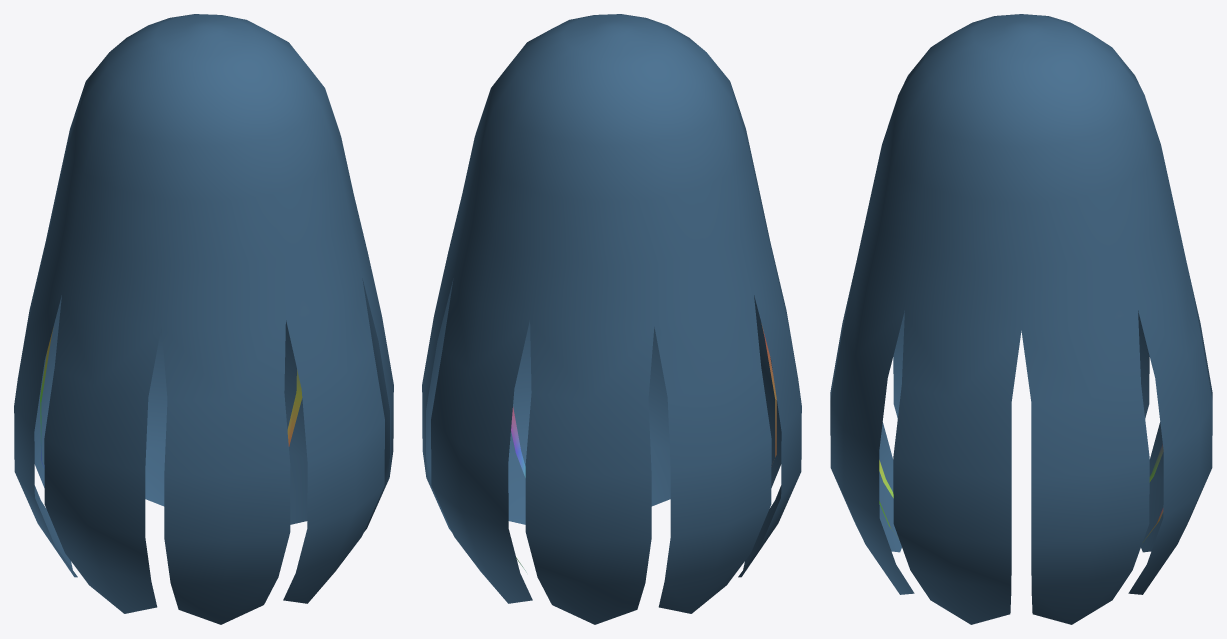
Rendered from underwater-sea-invertebrates-blue-jellyfish_v1.fbx.
3 renders of one model, left to right at view 1: azimuth 30°, elevation 25°; view 2: azimuth 150°, elevation 25°; view 3: azimuth 270°, elevation 25°, orthographic.
Visible parts, largest first — view 1: Blue Jellyfish; view 2: Blue Jellyfish; view 3: Blue Jellyfish.
Part boxes in pixels (left/top/right/bottom): Blue Jellyfish: left=14, top=14, right=393, bottom=624; Blue Jellyfish: left=422, top=14, right=801, bottom=624; Blue Jellyfish: left=830, top=14, right=1212, bottom=624.
Size of the model in its own units: 0.1901 by 0.3 by 0.1901.
